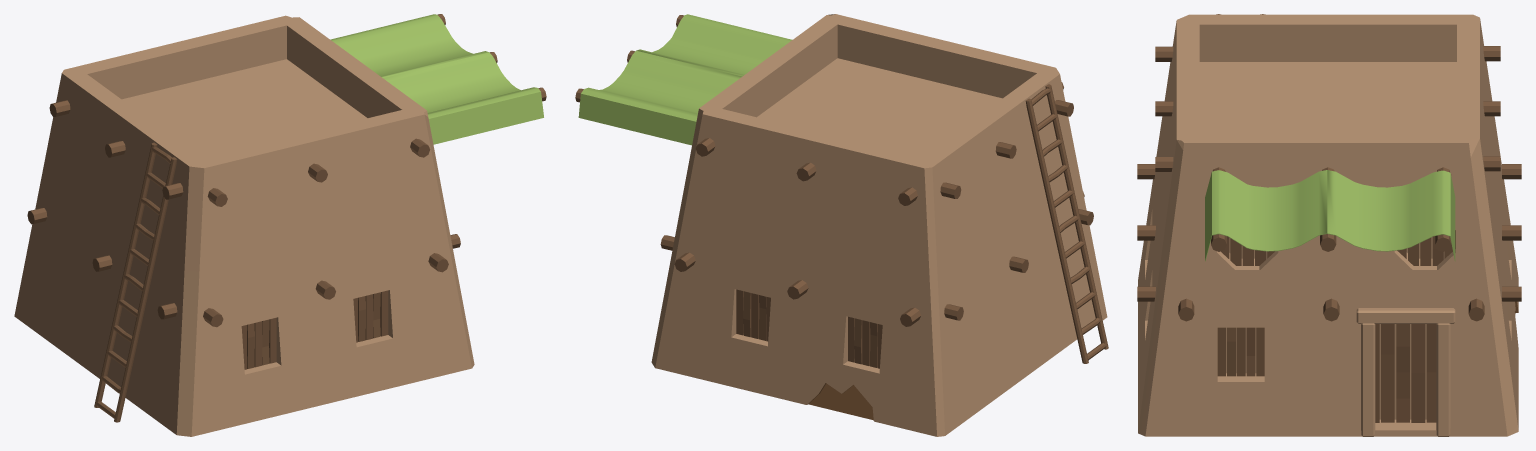
Rendered from house2.fbx.
The picture shows the model from 3 angles, left to right: view 1: azimuth 30°, elevation 25°; view 2: azimuth 150°, elevation 25°; view 3: azimuth 270°, elevation 25°; orthographic projection. The views are drawn at different scales.
Visible parts, largest first — view 1: House_2_Base, House_2_Towel_Big_Roof, House_2_Stairs_to_Roof, House_2_Beams_Area, House_2_Windows; view 2: House_2_Base, House_2_Towel_Big_Roof, House_2_Stairs_to_Roof, House_2_Beams_Area, House_2_Windows; view 3: House_2_Base, House_2_Towel_Big_Roof, House_2_Door, House_2_Door_Platband, House_2_Beams_Area, House_2_Windows, House_2_Windows_2, House_2_Beams_Towel.
Boxes of the visible parts, bbox=[...] form: House_2_Base: bbox=[14, 15, 474, 436]; House_2_Towel_Big_Roof: bbox=[330, 14, 543, 144]; House_2_Stairs_to_Roof: bbox=[94, 142, 177, 422]; House_2_Beams_Area: bbox=[27, 100, 460, 327]; House_2_Windows: bbox=[241, 290, 388, 369]; House_2_Base: bbox=[651, 14, 1107, 436]; House_2_Towel_Big_Roof: bbox=[578, 14, 792, 145]; House_2_Stairs_to_Roof: bbox=[1025, 84, 1108, 363]; House_2_Beams_Area: bbox=[660, 82, 1093, 326]; House_2_Windows: bbox=[736, 289, 882, 368]; House_2_Base: bbox=[1138, 14, 1518, 436]; House_2_Towel_Big_Roof: bbox=[1205, 170, 1455, 261]; House_2_Door: bbox=[1375, 324, 1436, 422]; House_2_Door_Platband: bbox=[1356, 308, 1455, 436]; House_2_Beams_Area: bbox=[1137, 46, 1521, 321]; House_2_Windows: bbox=[1217, 327, 1264, 376]; House_2_Windows_2: bbox=[1221, 230, 1455, 265]; House_2_Beams_Towel: bbox=[1211, 167, 1451, 251].
Bounding box in the file's own units: 910 × 507 × 634.
